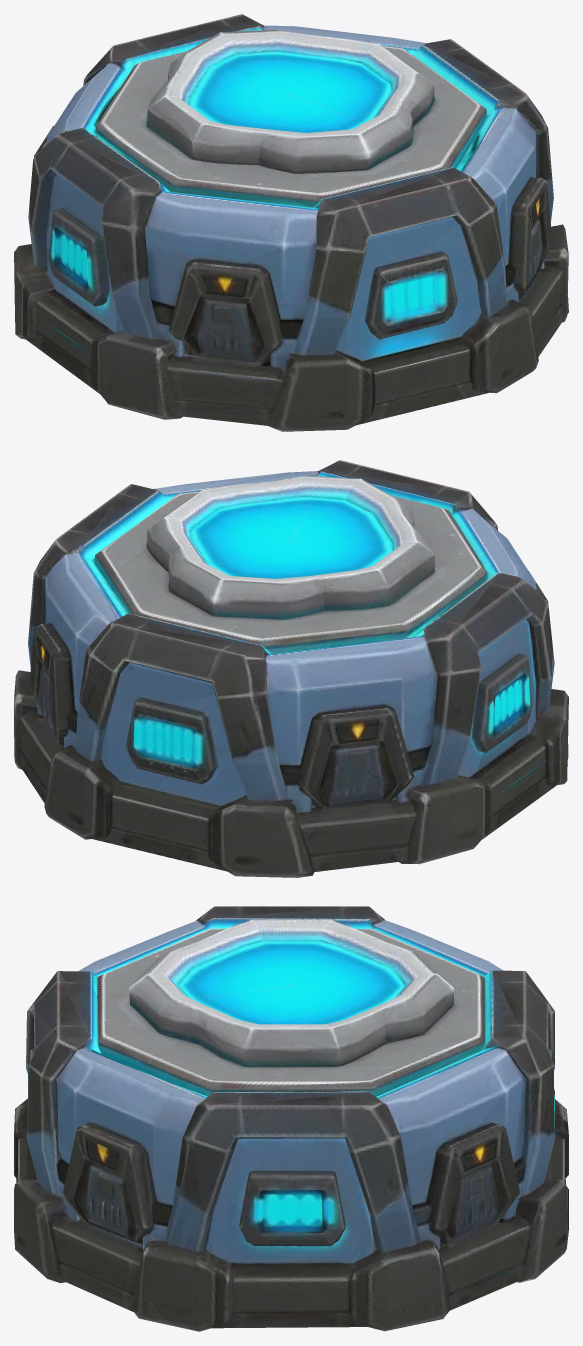
File: shield.glb
3 views of the same model, one above another, from view 1: azimuth 30°, elevation 25°; view 2: azimuth 150°, elevation 25°; view 3: azimuth 270°, elevation 25° (orthographic). The views are drawn at different scales.
Visible parts, largest first — view 1: mesh_node; view 2: mesh_node; view 3: mesh_node.
Part boxes in pixels (box(x1,y1,x2,y2)): mesh_node: box(14, 14, 568, 431); mesh_node: box(14, 460, 568, 877); mesh_node: box(14, 906, 568, 1331).
Bounding box in the file's own units: 1 × 0.4834 × 1.
1 material, 1 textured.
